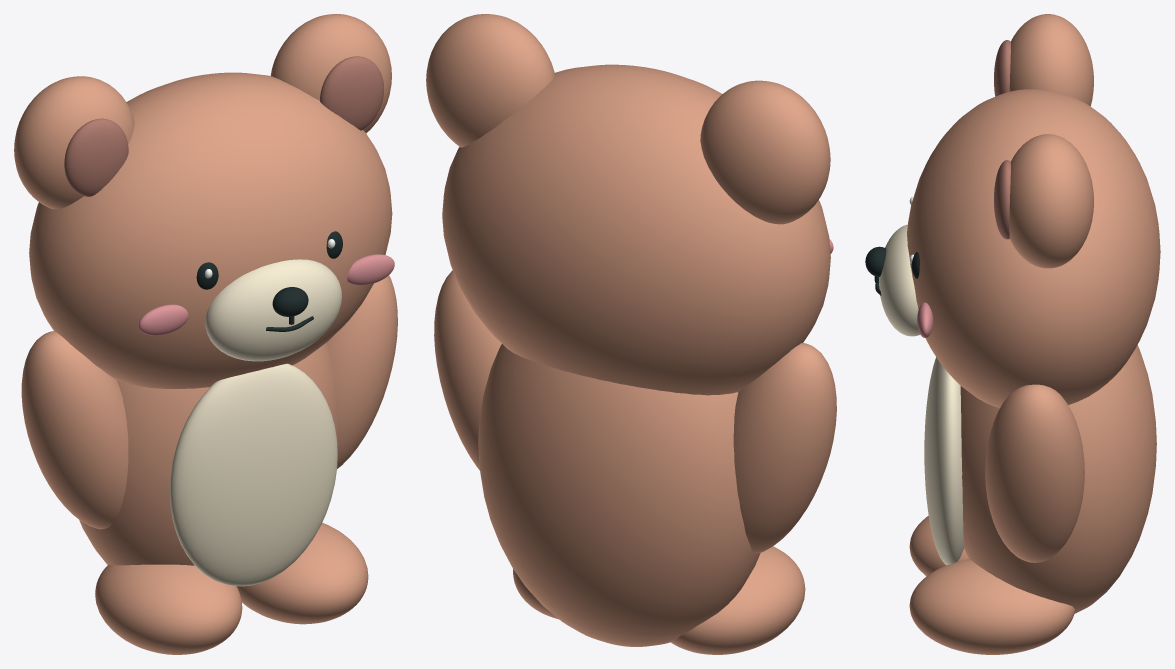
The model's file is coral-bear.glb.
3 views of the same model, side by side, from view 1: azimuth 30°, elevation 25°; view 2: azimuth 150°, elevation 25°; view 3: azimuth 270°, elevation 25° (orthographic). The views are drawn at different scales.
Parts seen in each view (by area): view 1: Bear big rounded head, Bear belly patch, Bear pill arm -1, Bear rounded body, Bear rounded foot -1, Bear round muzzle, Bear rounded ear -1, Bear pill arm 1, Bear rounded foot 1, Bear rounded ear 1, Bear ear inset -1, Bear ear inset 1 (+3 smaller); view 2: Bear big rounded head, Bear rounded body, Bear pill arm -1, Bear rounded ear -1, Bear rounded ear 1, Bear rounded foot -1, Bear pill arm 1; view 3: Bear big rounded head, Bear rounded body, Bear pill arm 1, Bear rounded foot 1, Bear rounded ear 1, Bear belly patch, Bear rounded ear -1, Bear round muzzle, Bear rounded foot -1, Bear ear inset 1, Bear ear inset -1, Bear small nose (+1 smaller).
Part boxes in pixels (x1=…): Bear big rounded head: x1=29, y1=72, x2=392, y2=388; Bear belly patch: x1=170, y1=363, x2=337, y2=586; Bear pill arm -1: x1=21, y1=331, x2=128, y2=529; Bear rounded body: x1=79, y1=342, x2=338, y2=587; Bear rounded foot -1: x1=95, y1=564, x2=242, y2=654; Bear round muzzle: x1=205, y1=259, x2=341, y2=361; Bear rounded ear -1: x1=14, y1=76, x2=134, y2=209; Bear pill arm 1: x1=326, y1=275, x2=397, y2=468; Bear rounded foot 1: x1=237, y1=522, x2=368, y2=624; Bear rounded ear 1: x1=270, y1=14, x2=391, y2=133; Bear ear inset -1: x1=64, y1=118, x2=128, y2=196; Bear ear inset 1: x1=320, y1=56, x2=384, y2=130; Bear big rounded head: x1=442, y1=64, x2=830, y2=395; Bear rounded body: x1=478, y1=344, x2=760, y2=646; Bear pill arm -1: x1=733, y1=343, x2=836, y2=553; Bear rounded ear -1: x1=700, y1=80, x2=830, y2=224; Bear rounded ear 1: x1=426, y1=14, x2=554, y2=147; Bear rounded foot -1: x1=671, y1=546, x2=805, y2=654; Bear pill arm 1: x1=434, y1=270, x2=501, y2=470; Bear big rounded head: x1=907, y1=89, x2=1160, y2=407; Bear rounded body: x1=960, y1=345, x2=1156, y2=613; Bear pill arm 1: x1=985, y1=384, x2=1084, y2=562; Bear rounded foot 1: x1=909, y1=559, x2=1074, y2=654; Bear rounded ear 1: x1=1009, y1=134, x2=1093, y2=268; Bear belly patch: x1=924, y1=357, x2=963, y2=565; Bear rounded ear -1: x1=1009, y1=14, x2=1093, y2=106; Bear round muzzle: x1=879, y1=224, x2=920, y2=336; Bear rounded foot -1: x1=909, y1=516, x2=968, y2=576; Bear ear inset 1: x1=994, y1=160, x2=1010, y2=239; Bear ear inset -1: x1=994, y1=40, x2=1010, y2=96; Bear small nose: x1=865, y1=246, x2=886, y2=276.
Size of the model in its own units: 2.22 by 3.21 by 1.6.
